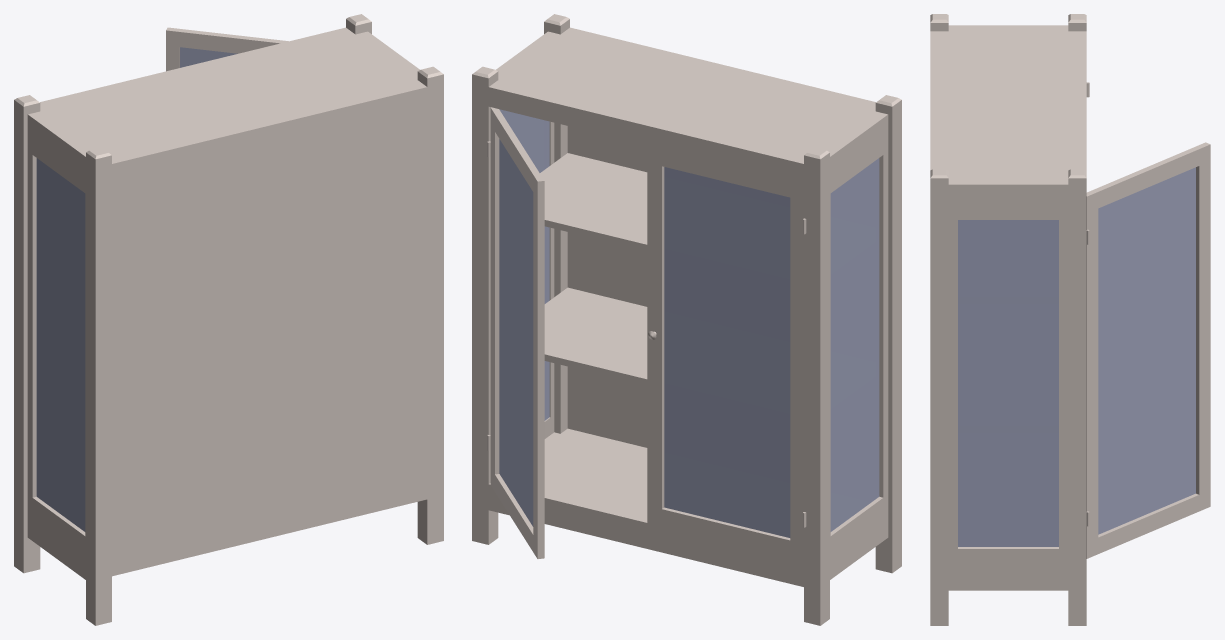
The picture shows the model from 3 angles, left to right: view 1: azimuth 30°, elevation 25°; view 2: azimuth 150°, elevation 25°; view 3: azimuth 270°, elevation 25°; orthographic projection. The views are drawn at different scales.
Parts seen in each view (by area): view 1: mesh134_mesh134-geometry, mesh3_mesh3-geometry, mesh136_mesh136-geometry, mesh128_mesh128-geometry, mesh130_mesh130-geometry, mesh132_mesh132-geometry, mesh126_mesh126-geometry, mesh58_mesh58-geometry, mesh53_mesh53-geometry, mesh40_mesh40-geometry, mesh62_mesh62-geometry, mesh60_mesh60-geometry (+6 smaller); view 2: mesh78_mesh78-geometry, mesh3_mesh3-geometry, mesh58_mesh58-geometry, mesh30_mesh30-geometry, mesh40_mesh40-geometry, mesh67_mesh67-geometry, mesh134_mesh134-geometry, mesh1_mesh1-geometry, mesh22_mesh22-geometry, mesh53_mesh53-geometry, mesh102_mesh102-geometry, mesh98_mesh98-geometry (+11 smaller); view 3: mesh76_mesh76-geometry, mesh78_mesh78-geometry, mesh3_mesh3-geometry, mesh62_mesh62-geometry, mesh67_mesh67-geometry, mesh116_mesh116-geometry, mesh74_mesh74-geometry, mesh49_mesh49-geometry, mesh120_mesh120-geometry, mesh51_mesh51-geometry, mesh60_mesh60-geometry, mesh94_mesh94-geometry (+2 smaller).
Part boxes in pixels (x1=…): mesh134_mesh134-geometry: x1=371, y1=85, x2=431, y2=512; mesh3_mesh3-geometry: x1=34, y1=30, x2=424, y2=161; mesh136_mesh136-geometry: x1=108, y1=149, x2=165, y2=577; mesh128_mesh128-geometry: x1=216, y1=123, x2=269, y2=550; mesh130_mesh130-geometry: x1=268, y1=111, x2=320, y2=537; mesh132_mesh132-geometry: x1=320, y1=98, x2=372, y2=525; mesh126_mesh126-geometry: x1=164, y1=136, x2=216, y2=563; mesh58_mesh58-geometry: x1=36, y1=158, x2=85, y2=531; mesh53_mesh53-geometry: x1=86, y1=147, x2=111, y2=625; mesh40_mesh40-geometry: x1=14, y1=95, x2=40, y2=573; mesh62_mesh62-geometry: x1=417, y1=66, x2=443, y2=544; mesh60_mesh60-geometry: x1=27, y1=151, x2=36, y2=497; mesh78_mesh78-geometry: x1=499, y1=139, x2=790, y2=537; mesh3_mesh3-geometry: x1=492, y1=29, x2=881, y2=519; mesh58_mesh58-geometry: x1=830, y1=158, x2=879, y2=531; mesh30_mesh30-geometry: x1=540, y1=153, x2=647, y2=385; mesh40_mesh40-geometry: x1=804, y1=147, x2=829, y2=625; mesh67_mesh67-geometry: x1=472, y1=66, x2=498, y2=544; mesh134_mesh134-geometry: x1=567, y1=27, x2=624, y2=441; mesh1_mesh1-geometry: x1=488, y1=483, x2=803, y2=586; mesh22_mesh22-geometry: x1=488, y1=84, x2=803, y2=183; mesh53_mesh53-geometry: x1=875, y1=95, x2=901, y2=573; mesh102_mesh102-geometry: x1=647, y1=145, x2=664, y2=526; mesh98_mesh98-geometry: x1=790, y1=180, x2=804, y2=561; mesh76_mesh76-geometry: x1=958, y1=220, x2=1058, y2=546; mesh78_mesh78-geometry: x1=1098, y1=167, x2=1195, y2=534; mesh3_mesh3-geometry: x1=935, y1=28, x2=1079, y2=181; mesh62_mesh62-geometry: x1=930, y1=169, x2=948, y2=625; mesh67_mesh67-geometry: x1=1068, y1=169, x2=1086, y2=625; mesh116_mesh116-geometry: x1=1194, y1=142, x2=1210, y2=511; mesh74_mesh74-geometry: x1=948, y1=547, x2=1068, y2=590; mesh49_mesh49-geometry: x1=948, y1=25, x2=1068, y2=219; mesh120_mesh120-geometry: x1=1086, y1=189, x2=1098, y2=558; mesh51_mesh51-geometry: x1=1059, y1=220, x2=1068, y2=548; mesh60_mesh60-geometry: x1=948, y1=220, x2=957, y2=548; mesh94_mesh94-geometry: x1=1094, y1=147, x2=1199, y2=208.
Size of the model in its own units: 0.5608 by 0.721 by 0.407.
